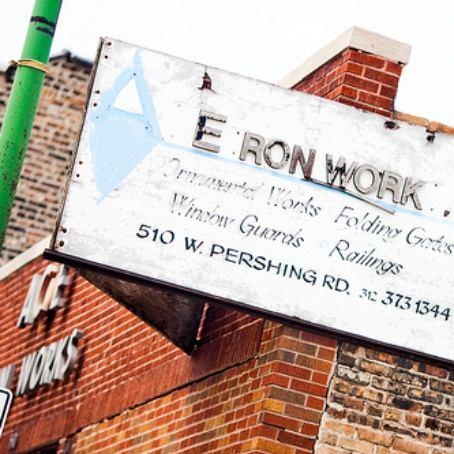building: (7, 65, 454, 454)
sign: (86, 52, 454, 352)
